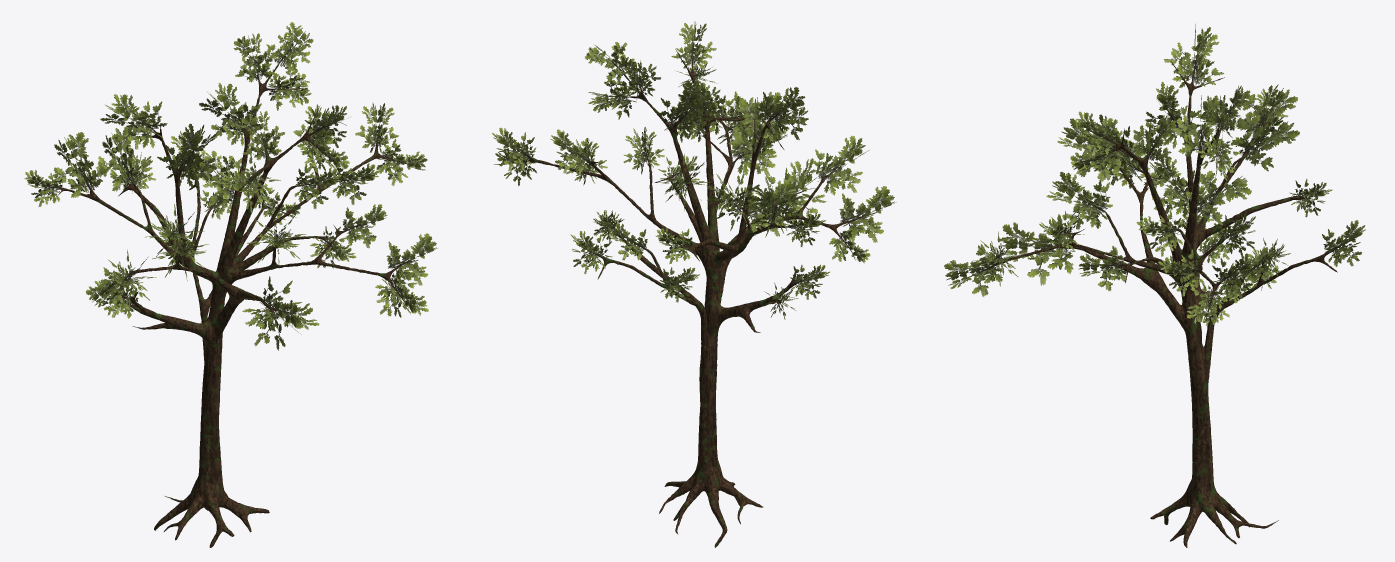
Rendered from oakTree.fbx.
3 views of the same model, side by side, from view 1: azimuth 30°, elevation 25°; view 2: azimuth 150°, elevation 25°; view 3: azimuth 270°, elevation 25° (orthographic). The views are drawn at different scales.
Parts seen in each view (by area): view 1: Plane, leaves, leaves.015, leaves.008, leaves.014, leaves.025, leaves.010, leaves.001, leaves.036, leaves.002, leaves.023, leaves.021 (+18 smaller); view 2: Plane, leaves.005, leaves.006, leaves.015, leaves.014, leaves.025, leaves, leaves.008, leaves.010, leaves.020, leaves.013, leaves.029 (+17 smaller); view 3: Plane, leaves, leaves.004, leaves.010, leaves.015, leaves.036, leaves.013, leaves.001, leaves.025, leaves.008, leaves.014, leaves.020 (+18 smaller).
Part boxes in pixels (x1,y1,x2,y2): Plane: [43, 55, 417, 547]; leaves: [242, 276, 319, 350]; leaves.015: [100, 94, 167, 149]; leaves.008: [53, 132, 110, 197]; leaves.014: [157, 123, 217, 187]; leaves.025: [199, 83, 261, 145]; leaves.010: [95, 125, 152, 191]; leaves.001: [375, 269, 428, 317]; leaves.036: [188, 150, 247, 206]; leaves.002: [386, 233, 437, 285]; leaves.023: [266, 22, 313, 71]; leaves.021: [241, 111, 284, 160]; Plane: [509, 35, 882, 547]; leaves.005: [812, 136, 869, 195]; leaves.006: [839, 186, 896, 242]; leaves.015: [755, 87, 808, 143]; leaves.014: [728, 97, 786, 156]; leaves.025: [655, 80, 712, 142]; leaves: [755, 158, 826, 224]; leaves.008: [748, 176, 802, 237]; leaves.010: [706, 172, 760, 230]; leaves.020: [671, 21, 716, 70]; leaves.013: [742, 180, 798, 236]; leaves.029: [550, 129, 592, 173]; Plane: [966, 40, 1356, 547]; leaves: [999, 214, 1074, 285]; leaves.004: [1046, 172, 1112, 229]; leaves.010: [1232, 115, 1299, 171]; leaves.015: [1163, 24, 1224, 90]; leaves.036: [1186, 170, 1251, 225]; leaves.013: [1140, 154, 1205, 217]; leaves.001: [944, 244, 1002, 296]; leaves.025: [1170, 95, 1229, 156]; leaves.008: [1235, 84, 1297, 142]; leaves.014: [1144, 82, 1201, 148]; leaves.020: [1076, 111, 1118, 155].
Bounding box in the file's own units: 581 × 710 × 571.
